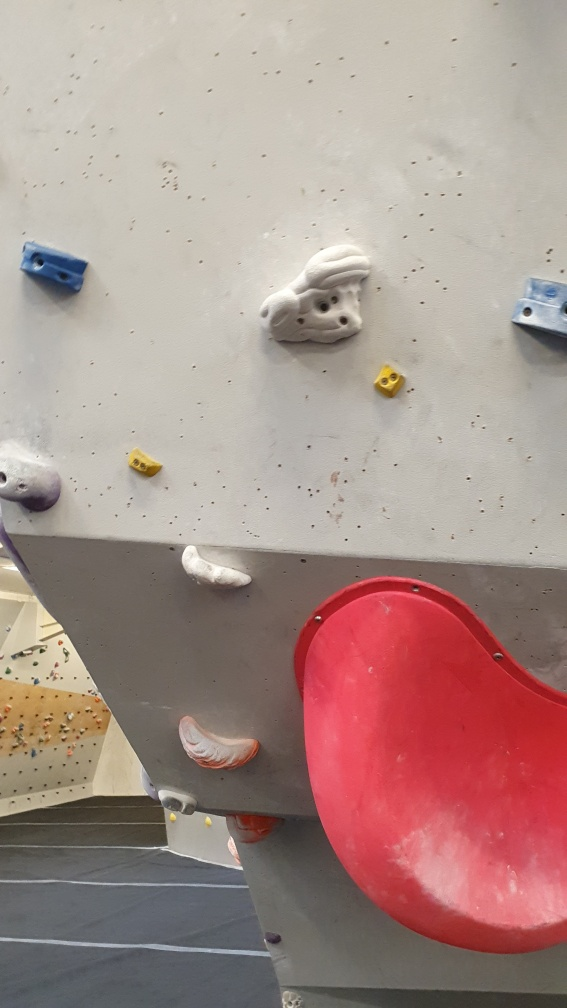Crimp: (127, 441, 170, 481)
Jug: (256, 240, 374, 348), (173, 707, 266, 780), (170, 537, 263, 604)
Pinch: (503, 269, 567, 341), (16, 236, 92, 294), (371, 361, 412, 409)
